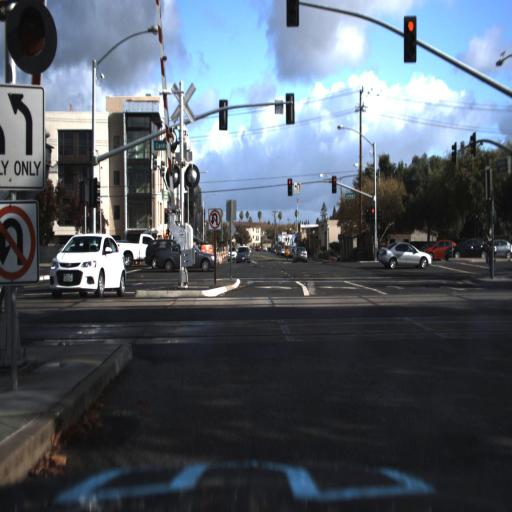car: (46, 232, 125, 303), (156, 237, 218, 276), (376, 238, 434, 268), (113, 230, 156, 270), (423, 236, 460, 265), (289, 244, 311, 264)
trafficLight: (10, 1, 55, 70), (285, 1, 300, 27)
trafficLight-Red: (403, 15, 418, 62), (330, 171, 339, 196), (370, 202, 377, 227), (286, 174, 293, 198)
